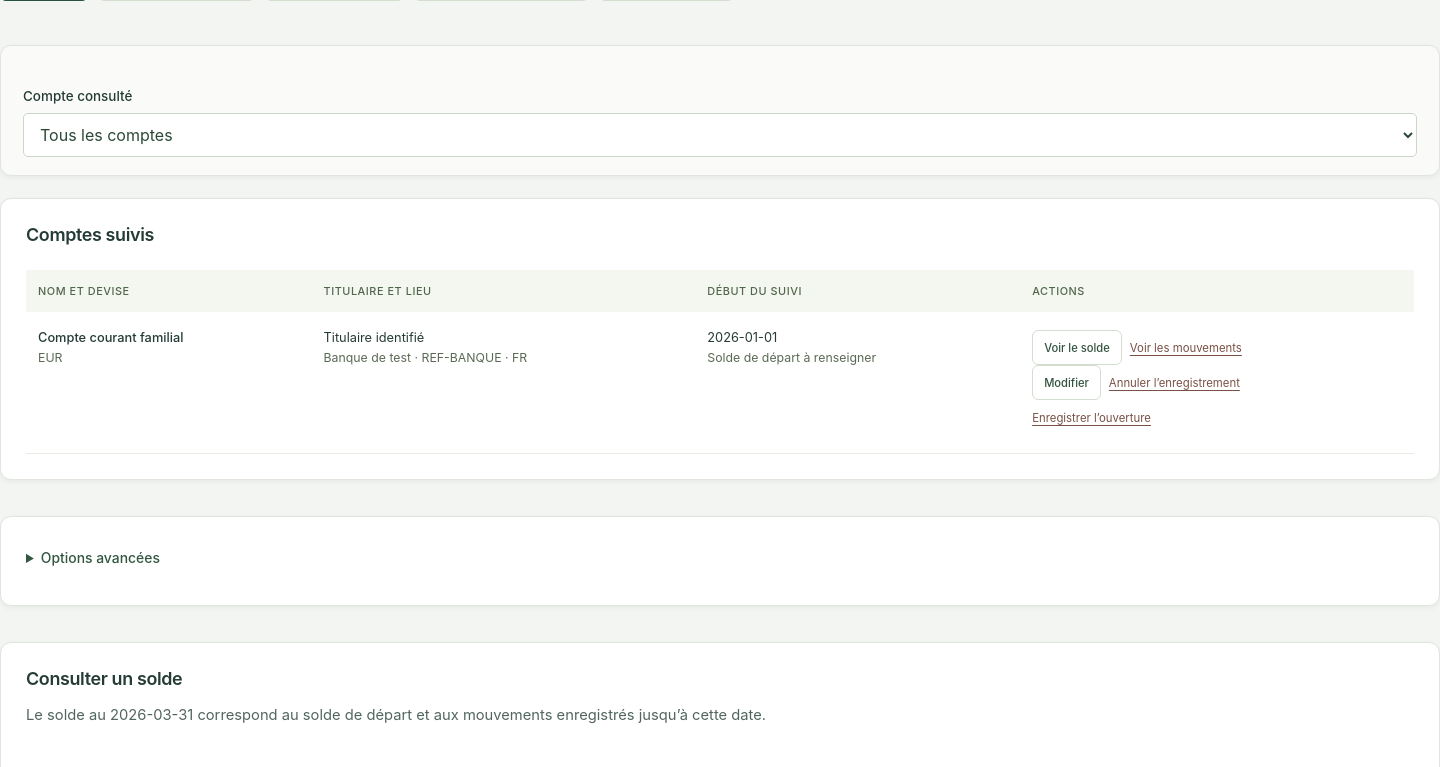
Test: Trésorerie locale › présente un écart de relevé retourné par Rust sans créer d’ajustement
The image size is (1440, 767).
Check: the heading "Comptes suivis" is shown, box [26,224,154,245]
Click the button "Voir le solde": (1077, 348) [1032,330,1122,365]
(page scrolled)
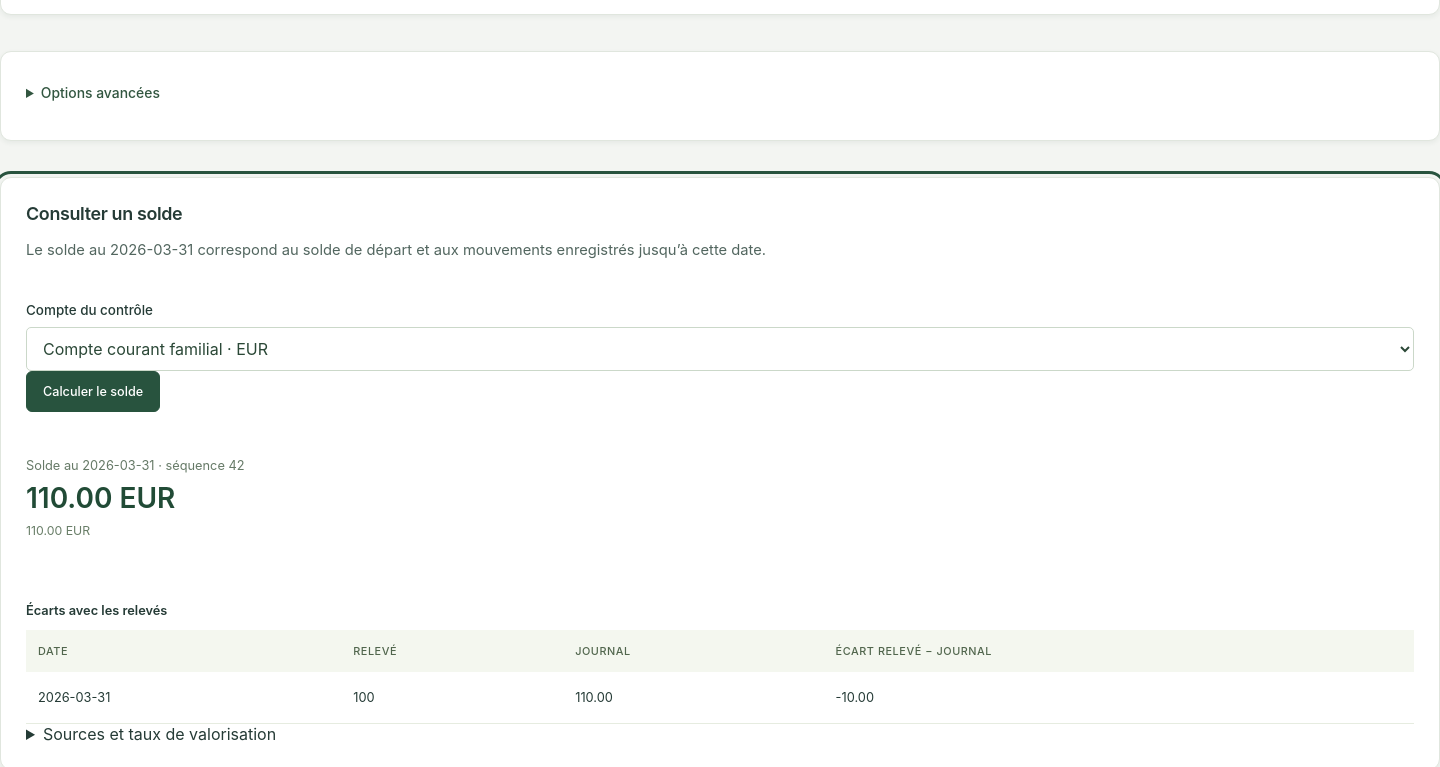
Check: the text "-10.00" is shown, box [824,672,1414,723]
Check: the 1st text "110.00 EUR" is shown, box [26,481,175,515]
